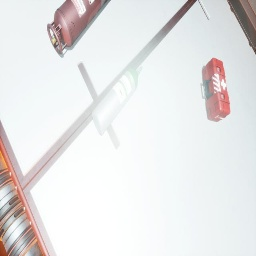0: (92, 66, 143, 135)
FirstAidBox ,: (202, 58, 230, 122)
NitrogenTank ,: (46, 0, 108, 54)
